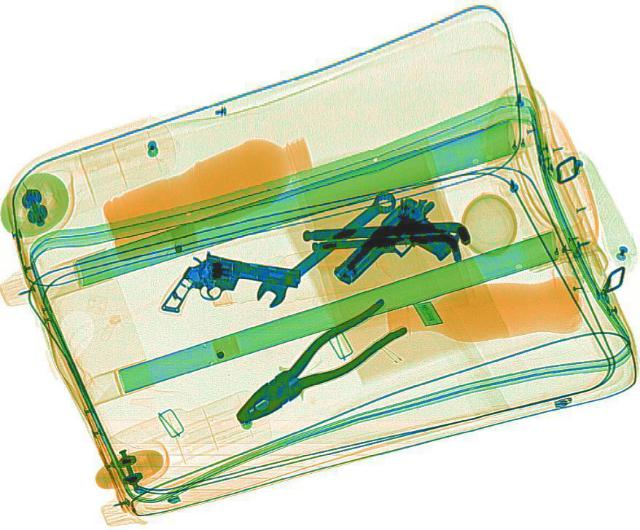Gun: (329, 187, 477, 309), (158, 247, 304, 331)
Pliers: (213, 295, 414, 434)
Wrench: (246, 183, 404, 307)
